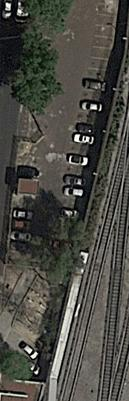parkingspot: (59, 2, 129, 225), (10, 197, 36, 244)
